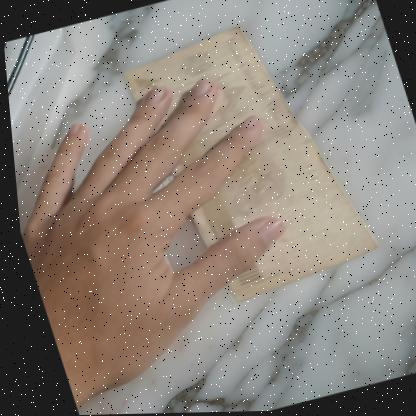five-back-vef: (111, 8, 381, 315)
